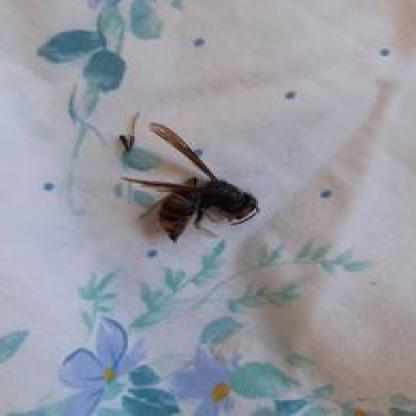Asian Hornet: (115, 122, 283, 246)
